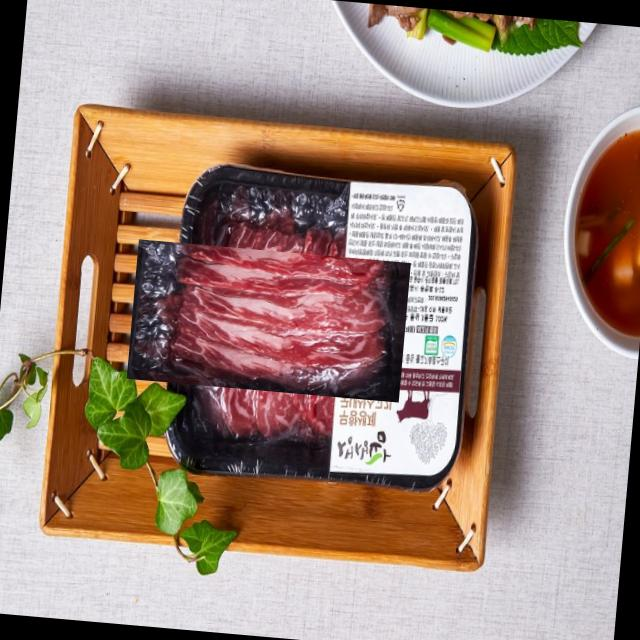beef: (156, 208, 380, 432)
